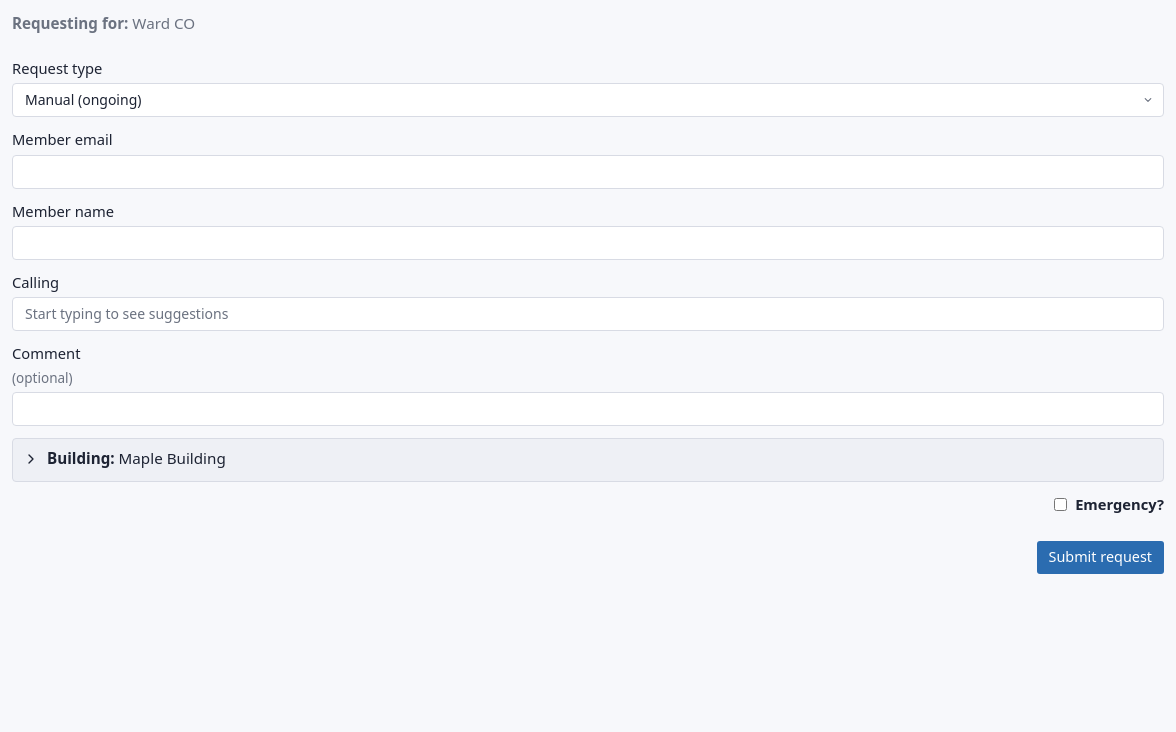
Test: <NewRequestForm /> — buildings selector defaults › preserves selection state across collapse / expand toggles
Note: Expand → tick Cedar as an additional building.
Click the button with test id "new-request-buildings-trigger": (81, 458) [23,447,1153,470]
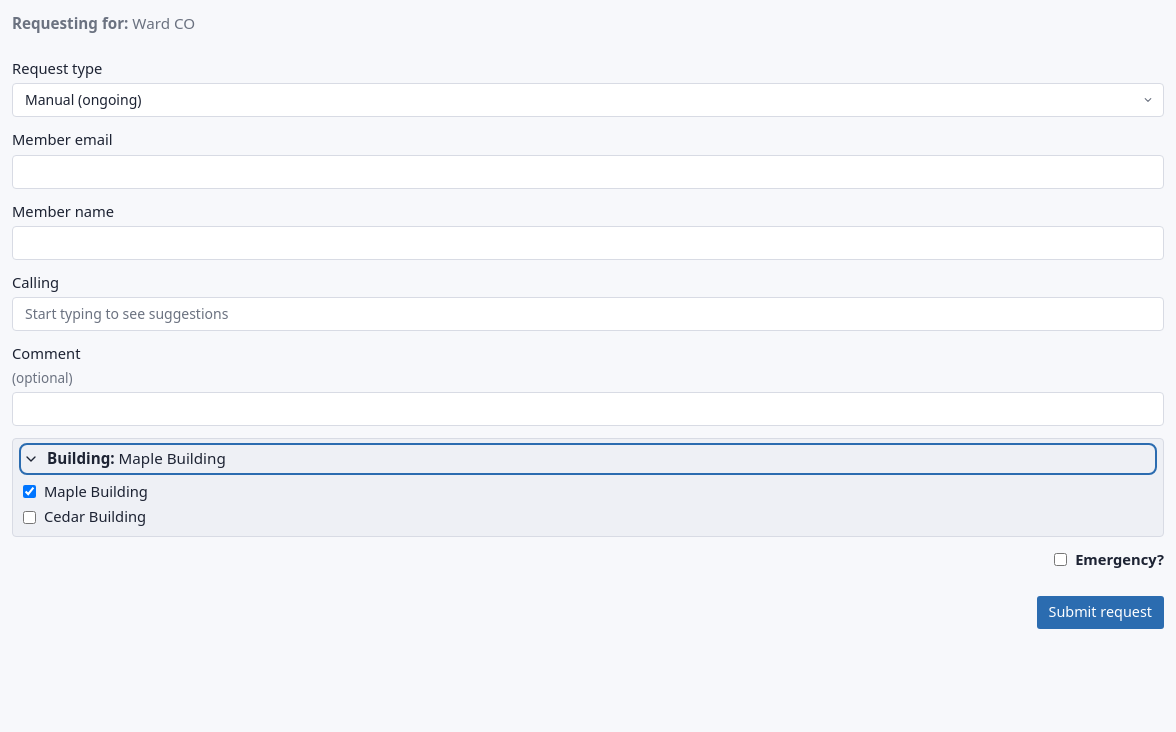
Click the checkbox with test id "new-request-building-cedar": (30, 517) [23,511,36,524]
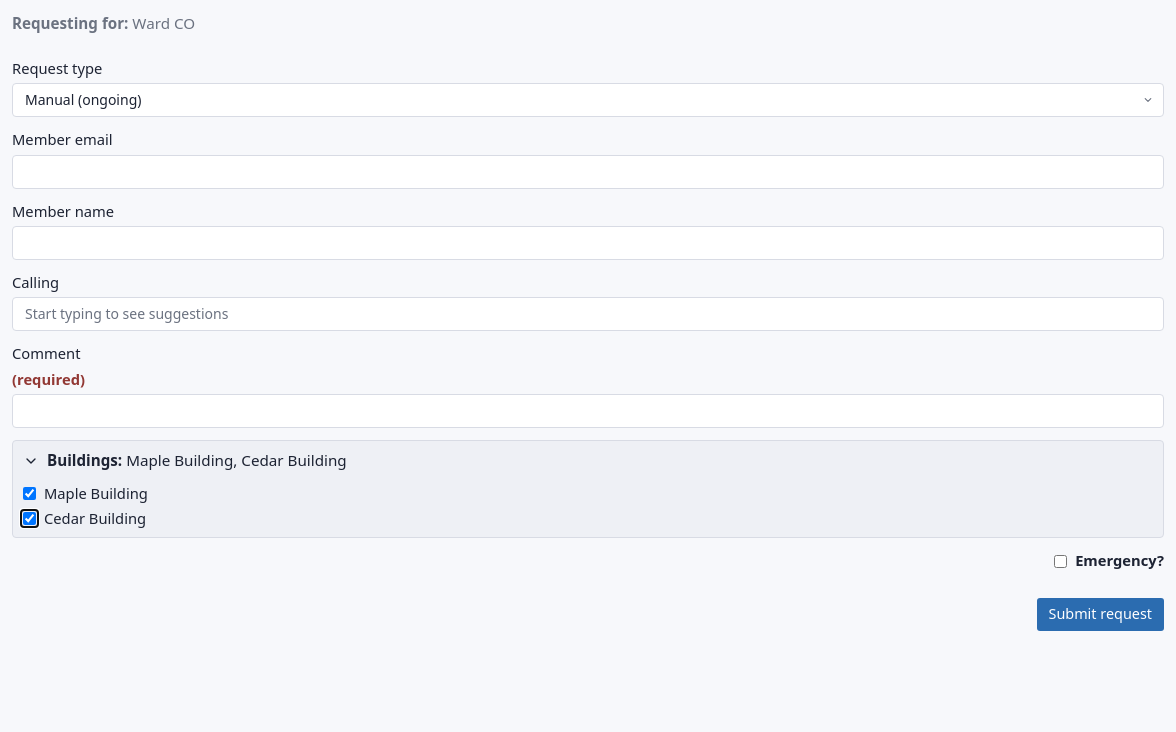
Expected: the element with test id "new-request-buildings-summary" reads "Buildings: Maple Building, Cedar Building", [47,450,347,470]
Note: Collapse → header still lists both.
Click the button with test id "new-request-buildings-trigger": (85, 460) [23,449,1153,472]
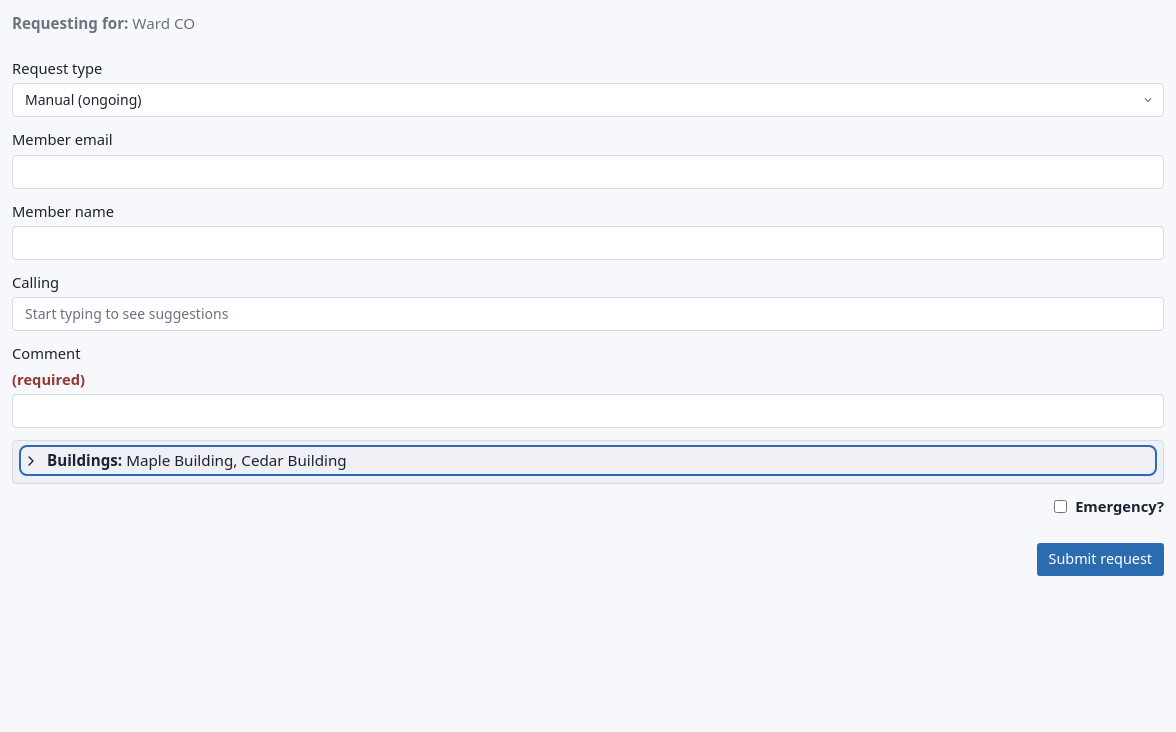
Expected: the element with test id "new-request-buildings-summary" reads "Buildings: Maple Building, Cedar Building", [47,450,347,470]
Expected: the button with test id "new-request-buildings-trigger" is collapsed
Note: Re-expand → both still ticked.
Click the button with test id "new-request-buildings-trigger": (85, 460) [23,449,1153,472]
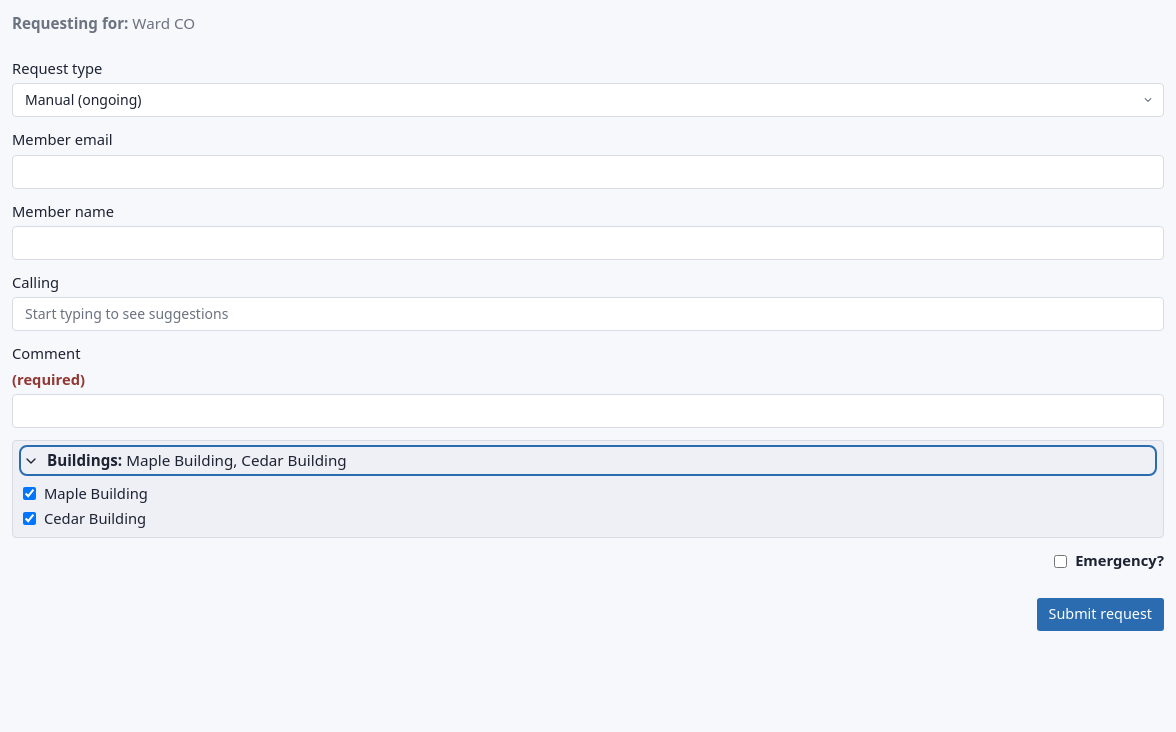
Expected: the checkbox with test id "new-request-building-maple" is checked, [23,487,36,500]
Expected: the checkbox with test id "new-request-building-cedar" is checked, [23,512,36,525]
